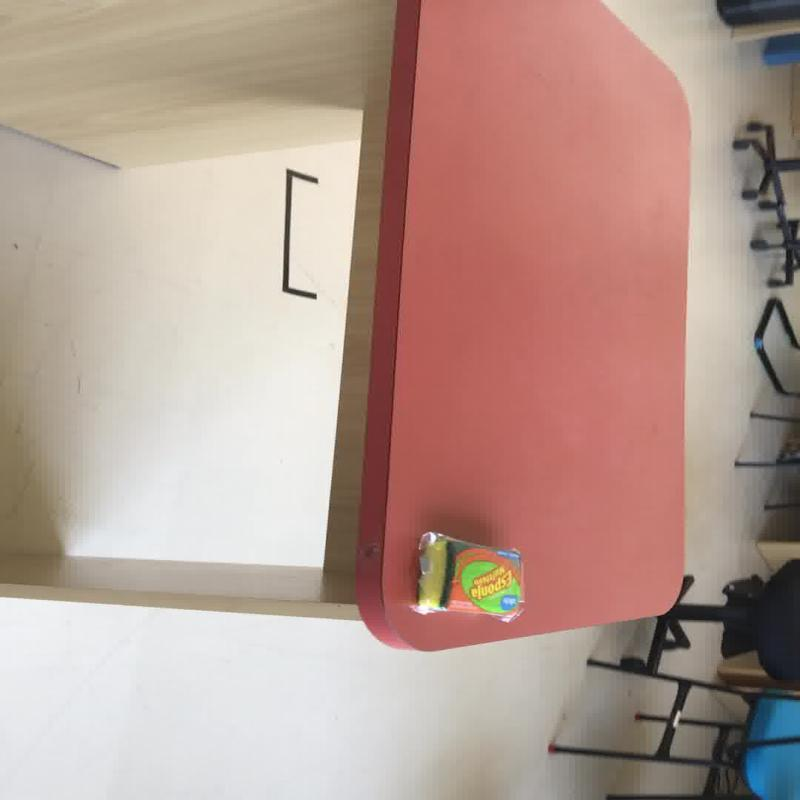sponge: (412, 530, 524, 622), (446, 546, 523, 616), (414, 533, 448, 611)
